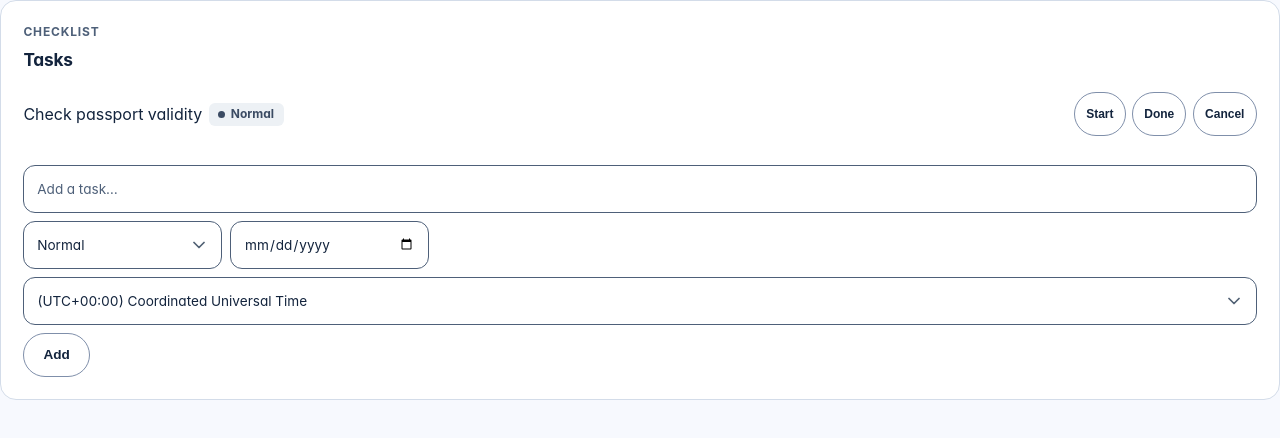
Test: the case page task list › replaces "Task added." with "Task started." instead of showing both
Type "Book the biometrics visit" into the field named "description" at (640, 189), box [23,165,1257,213]
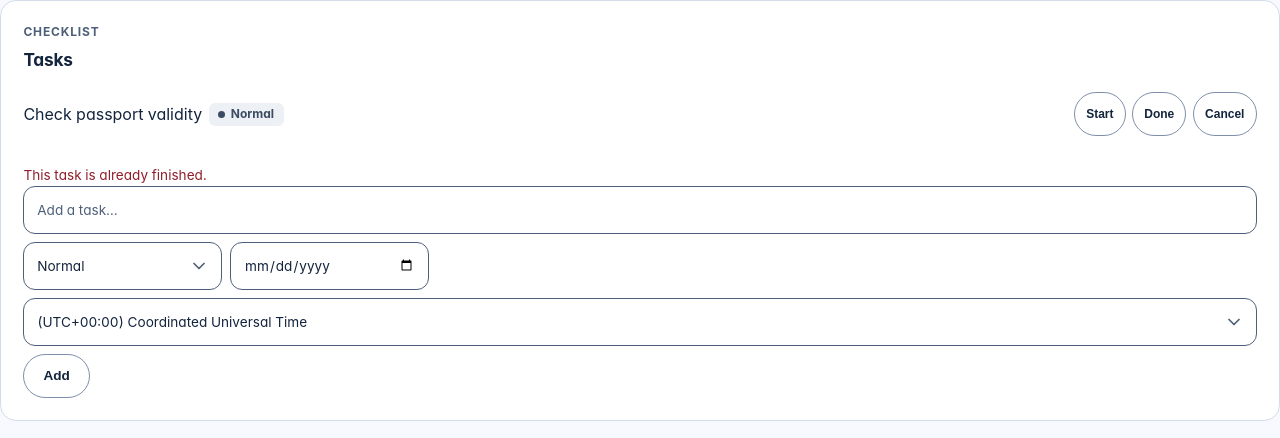
Expected: the message "This task is already finished." is shown, [23,167,207,183]
